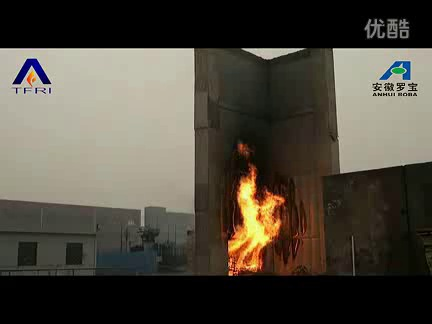fire: (221, 140, 289, 275)
